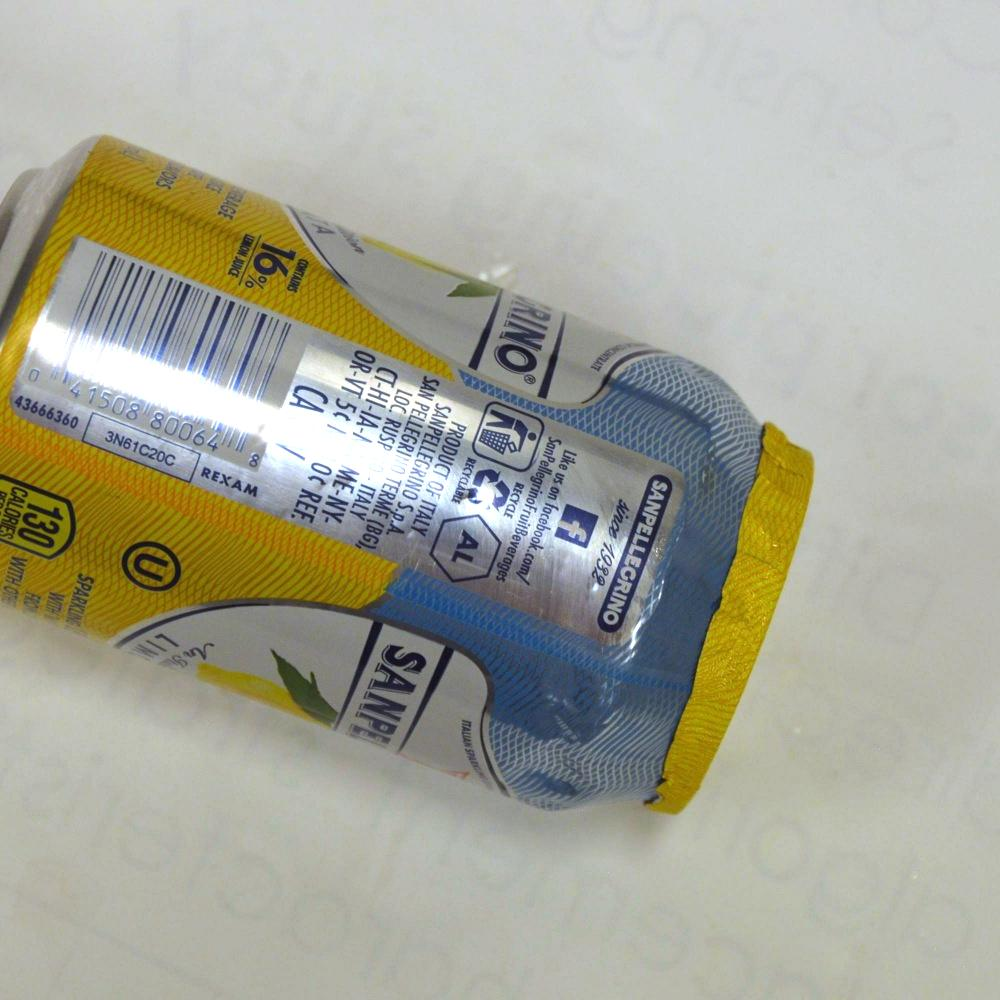Metal: (13, 120, 791, 895)
